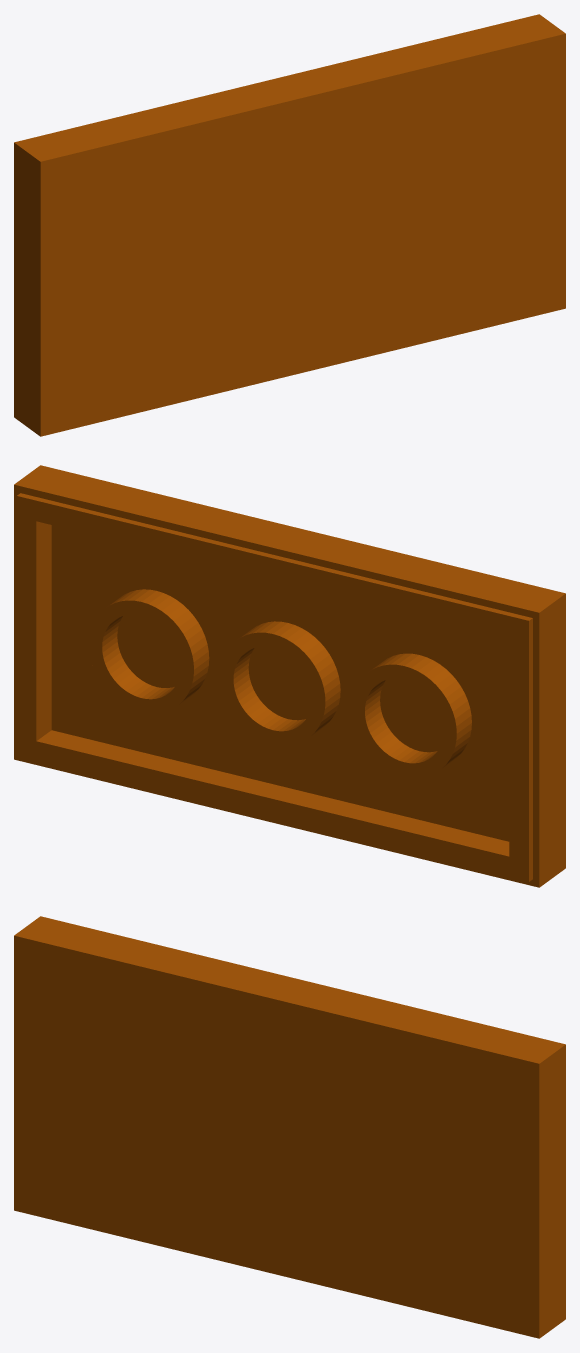
The picture shows the model from 3 angles, top to bottom: view 1: azimuth 30°, elevation 25°; view 2: azimuth 150°, elevation 25°; view 3: azimuth 330°, elevation 25°; orthographic projection.
Parts seen in each view (by area): view 1: mesh_31, box4; view 2: box5, _87079s01, box4, _4_4ring3, _4_4ring3_2, _4_4ring3_1, box4_1, _1_4cyli_5, _1_4cyli_21, _1_4cyli_13, _1_4cyli_11, _1_4cyli_3 (+1 smaller); view 3: mesh_31, box4.
Boxes of the visible parts, x1,y1,x2,y2 form: mesh_31: (40,33,565,436); box4: (14,14,565,436); box5: (36,521,509,856); _87079s01: (14,484,539,887); box4: (14,465,565,887); _4_4ring3: (220,632,325,745); _4_4ring3_2: (351,664,456,777); _4_4ring3_1: (89,600,193,713); box4_1: (17,493,532,881); _1_4cyli_5: (273,623,340,701); _1_4cyli_21: (405,655,471,733); _1_4cyli_13: (142,591,209,669); _1_4cyli_11: (102,636,156,697); _1_4cyli_3: (233,668,287,729); mesh_31: (14,935,539,1338); box4: (14,916,565,1338).
Size of the model in its own units: 80 by 40 by 8.
